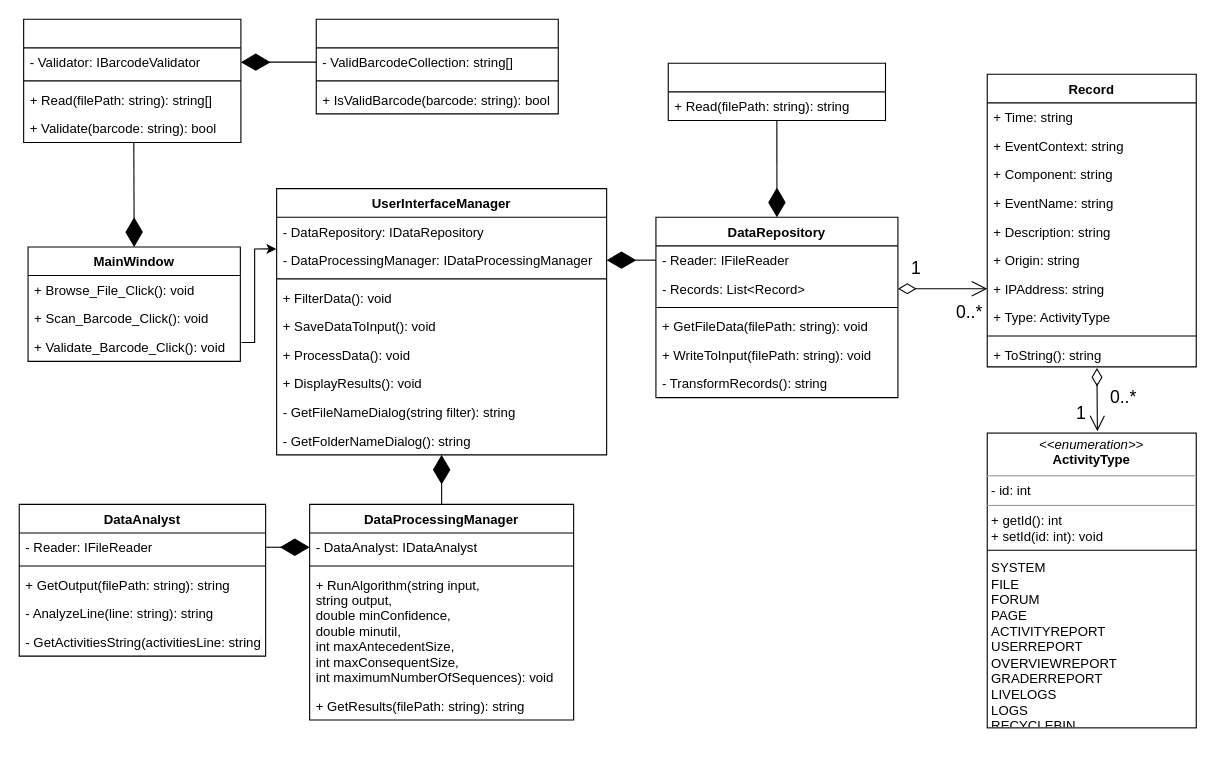
This 1216x771 diagram has some shape labels left out. Each missing label, with the box of its shape:
BarcodeReader: (23, 18, 241, 142)
BarcodeValidator: (315, 18, 558, 114)
FileReader: (667, 62, 886, 120)
